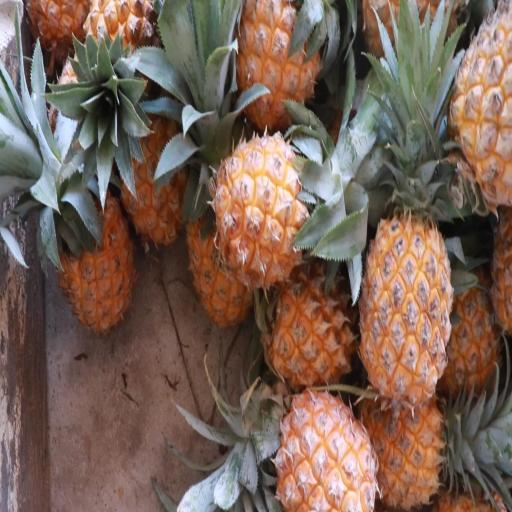Pineapple - v8 v1: (359, 176, 455, 406), (211, 125, 317, 295), (54, 154, 138, 340), (437, 4, 512, 208), (356, 360, 452, 512), (271, 379, 379, 512), (262, 254, 361, 398), (116, 80, 194, 255), (229, 0, 323, 135)
